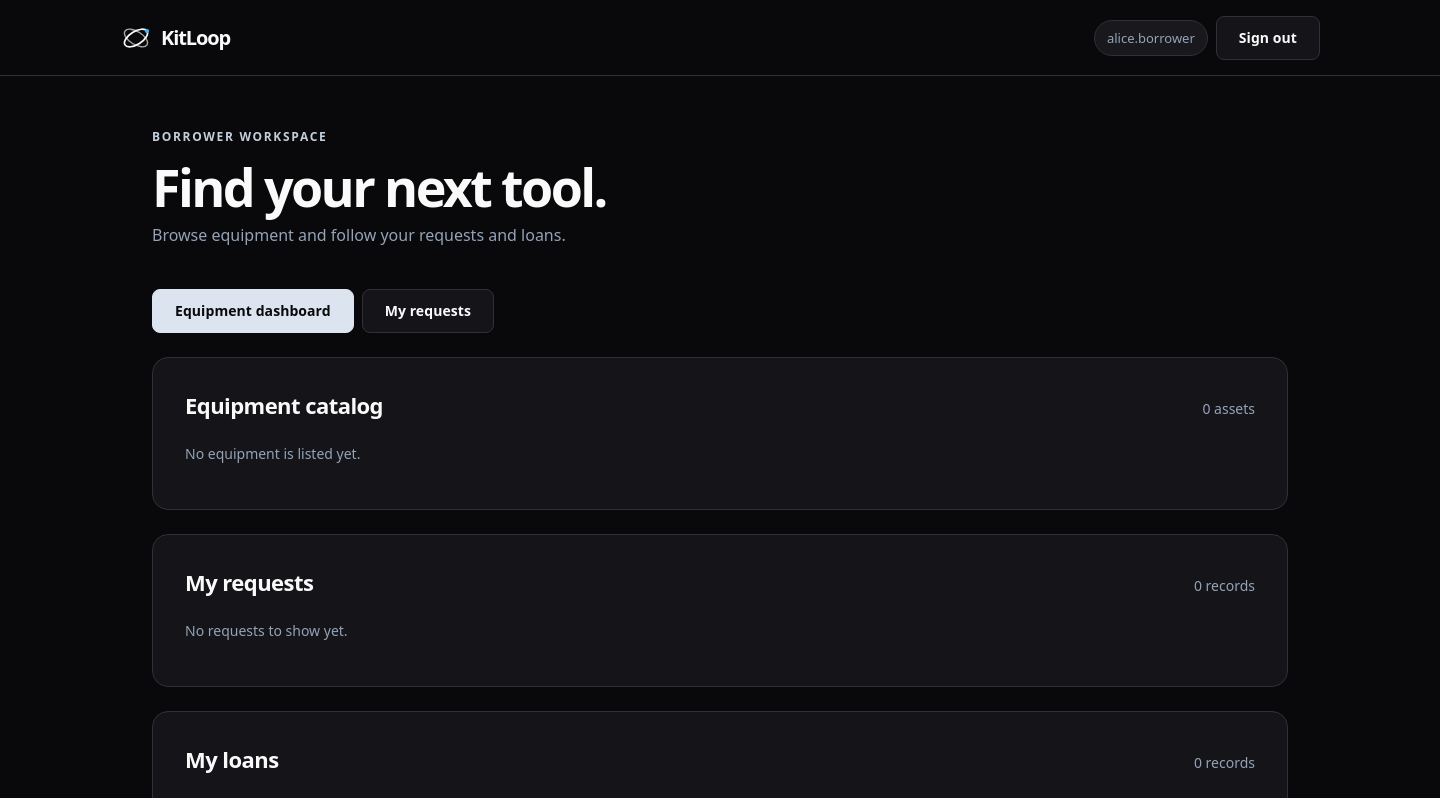
UAT-E04 persistent borrower navigation › clicking each link navigates to its route and moves the current marker; both stay visible
The width and height of the screenshot is (1440, 798).
Click the link "My requests".
click(428, 311)  # box x1=362 y1=289 x2=494 y2=333
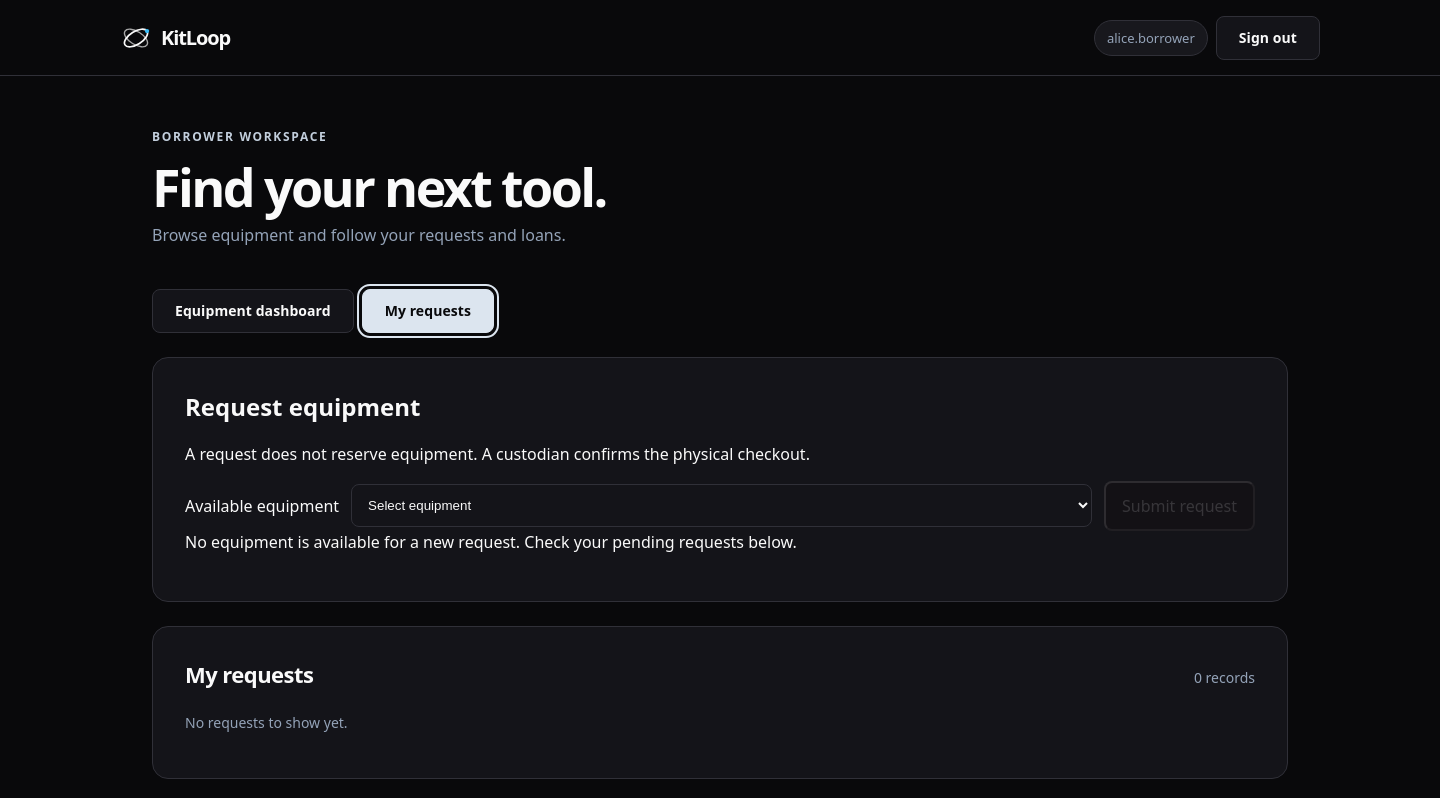
expect the heading "Request equipment" is shown: met, box x1=185 y1=390 x2=420 y2=423
Click the link "Equipment dashboard".
click(253, 311)  # box x1=152 y1=289 x2=354 y2=333
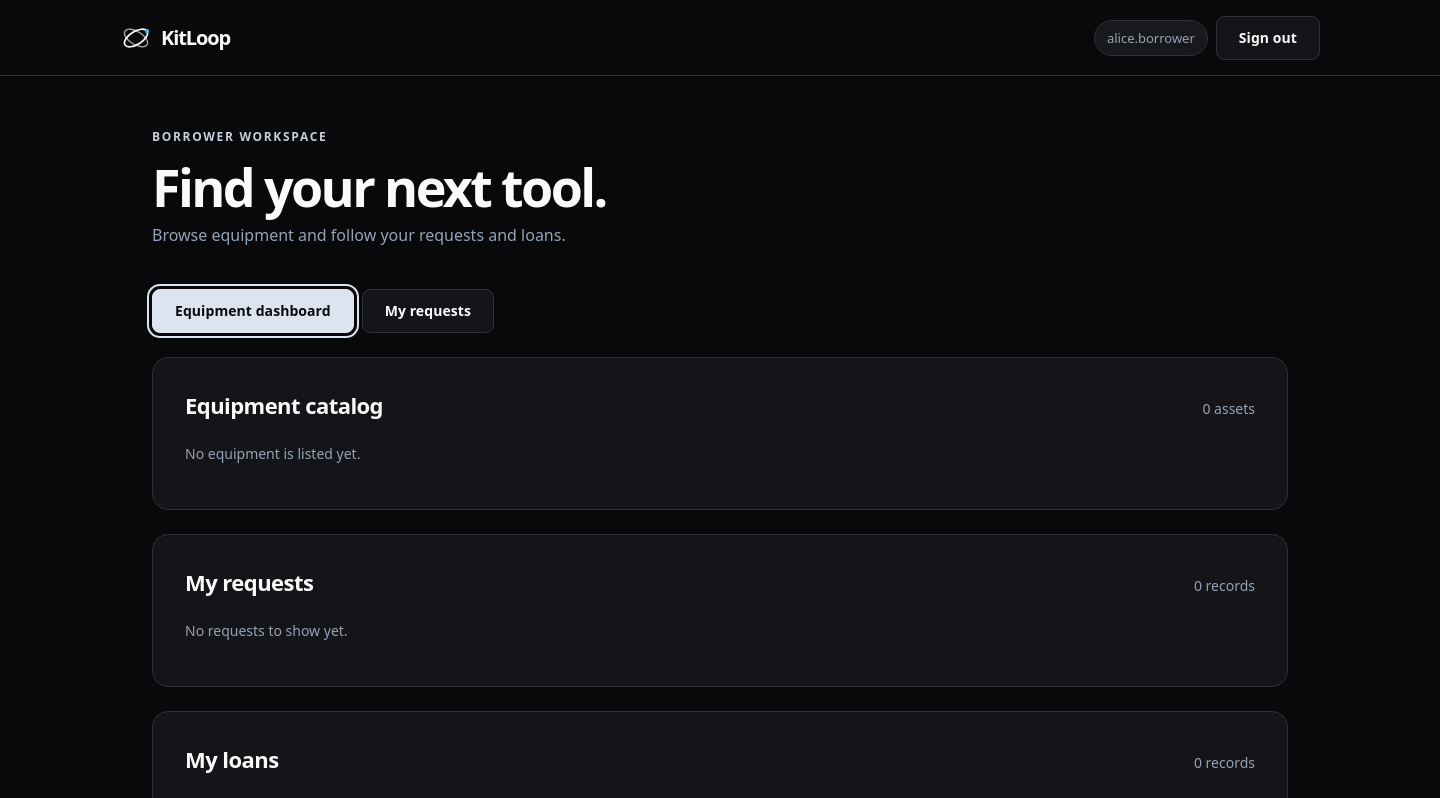
expect the links read "Equipment dashboard", "My requests", in this order: met, box x1=152 y1=289 x2=354 y2=333; x1=362 y1=289 x2=494 y2=333
expect the heading "Equipment catalog" is shown: met, box x1=185 y1=390 x2=383 y2=420
